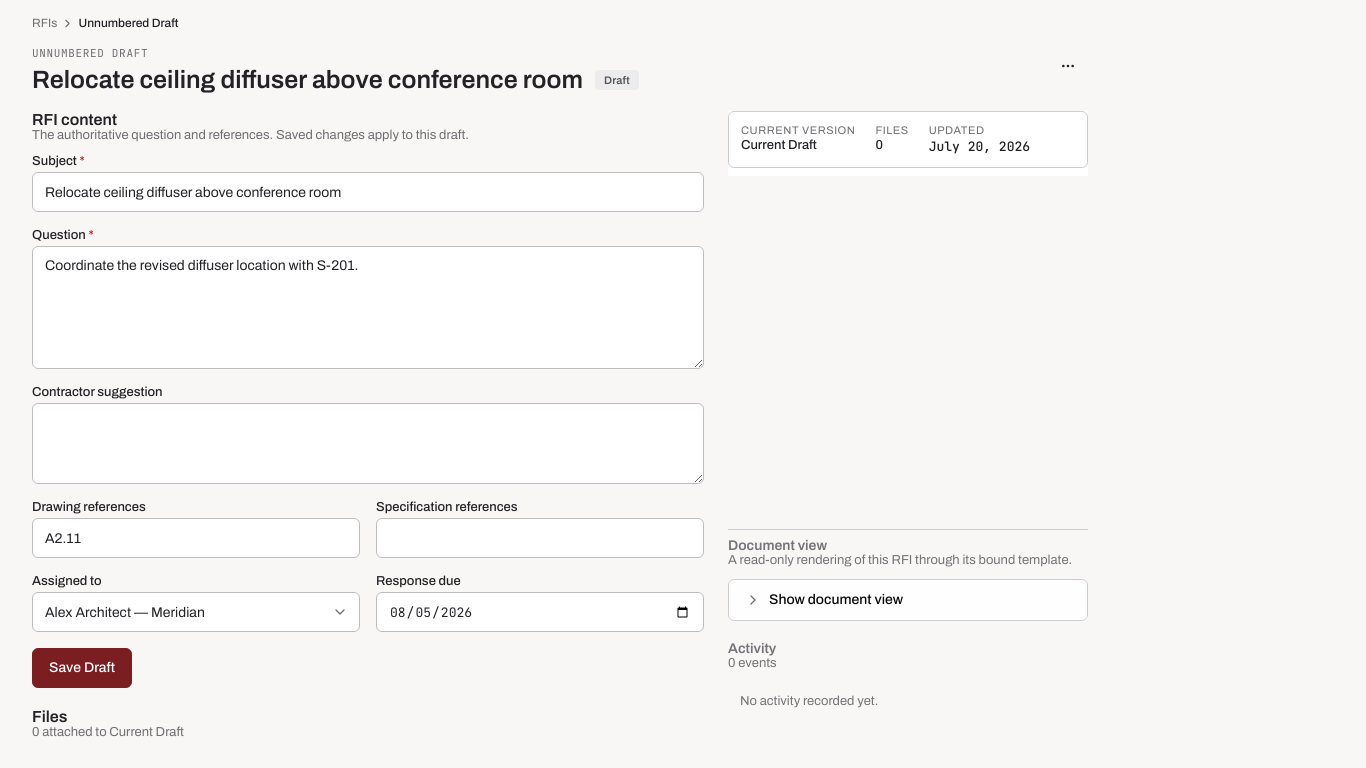
Scenario: RFI workspace — document view and activity › offers the real, keyboard-operable document view once a renderer runtime is present
Check: the header with class "base-workspace__identity" is shown, box [32,46,1088,95]
Click the button "Show document view".
click(836, 600)  # box [729,580,1087,620]
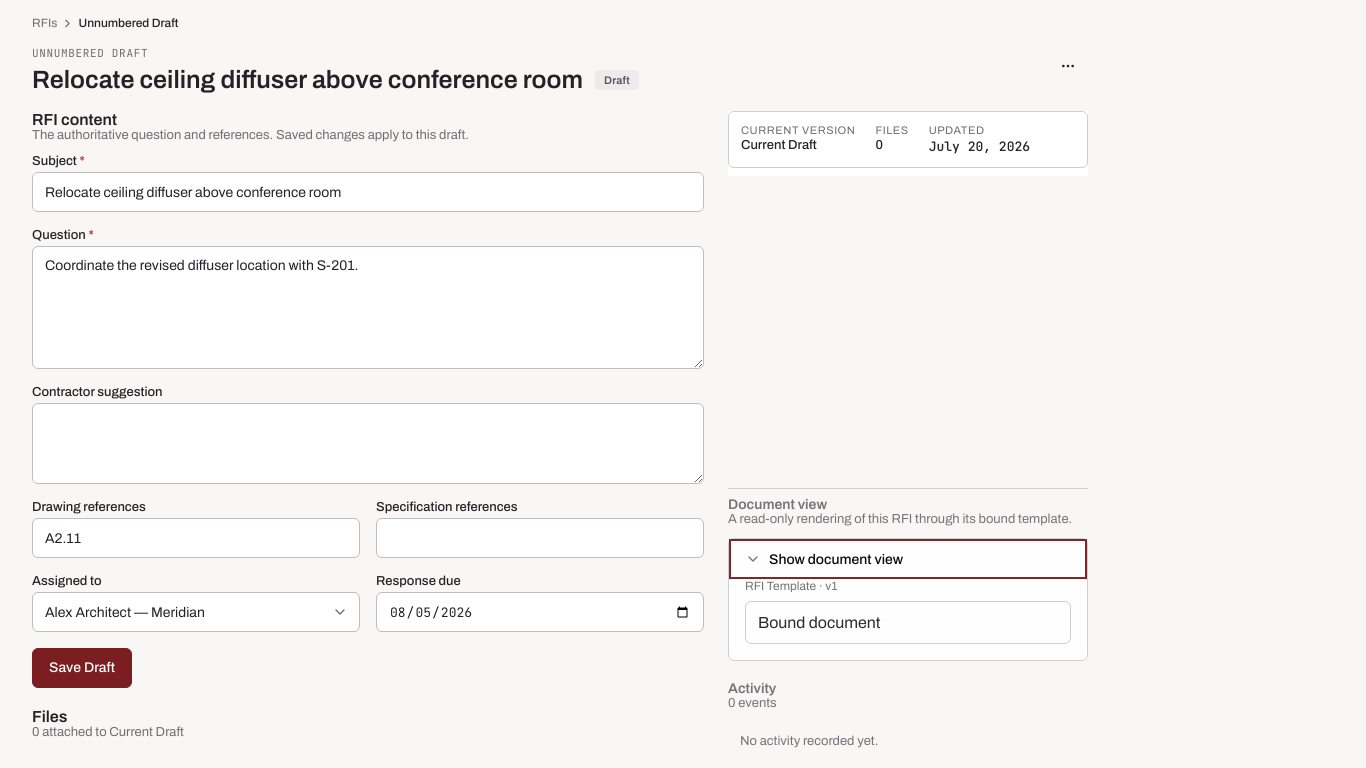
Check: the text "Bound document" is shown, box [758,614,880,631]
